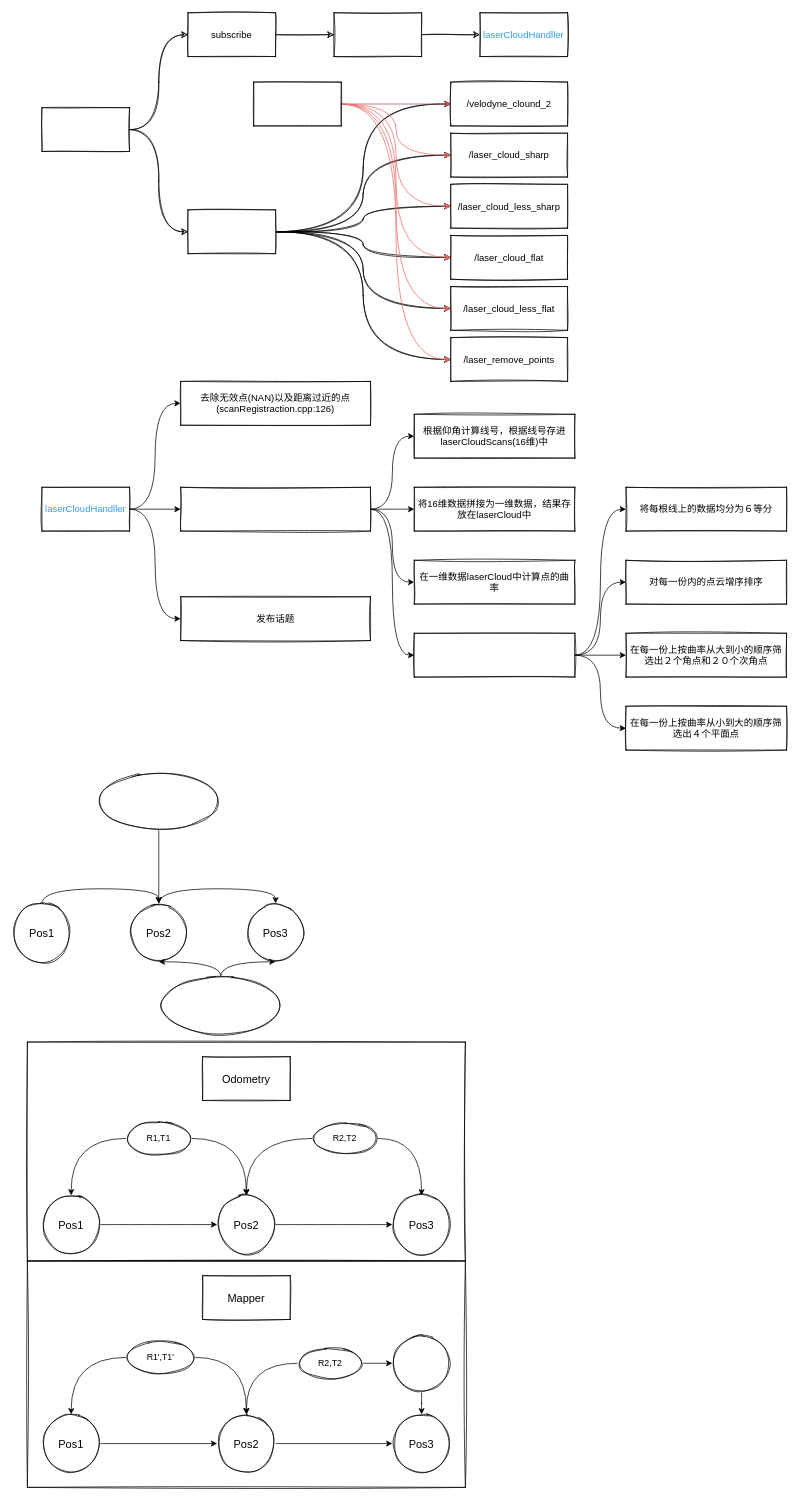
Some shapes in this 799 by 1500 pixel diagram are drawn without their labels. Here are the shapes that lost their labels. From the top down, the centre of each, then its label:
At (x=377, y=34): "/velodyne_points".
At (x=297, y=103): "/camera_init".
At (x=85, y=129): "scanRegistration".
At (x=231, y=231): "advertise".
At (x=275, y=509): "点云处理".
At (x=494, y=655): "根据曲率筛选点".
At (x=158, y=800): "translate:t_w_curr quaterniond:q_w_curr".
At (x=220, y=1005): "translate:t_w_last quaterniond:q_w_last".
At (x=421, y=1362): "Pos3_".
